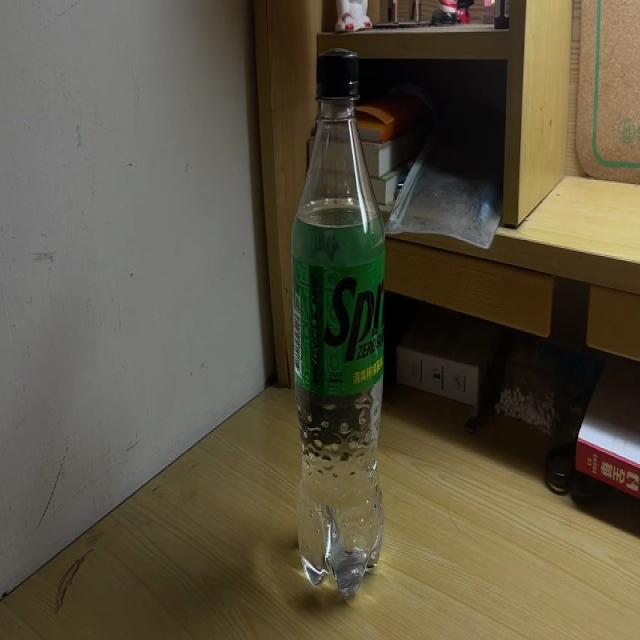Sprite: (289, 48, 386, 602)
